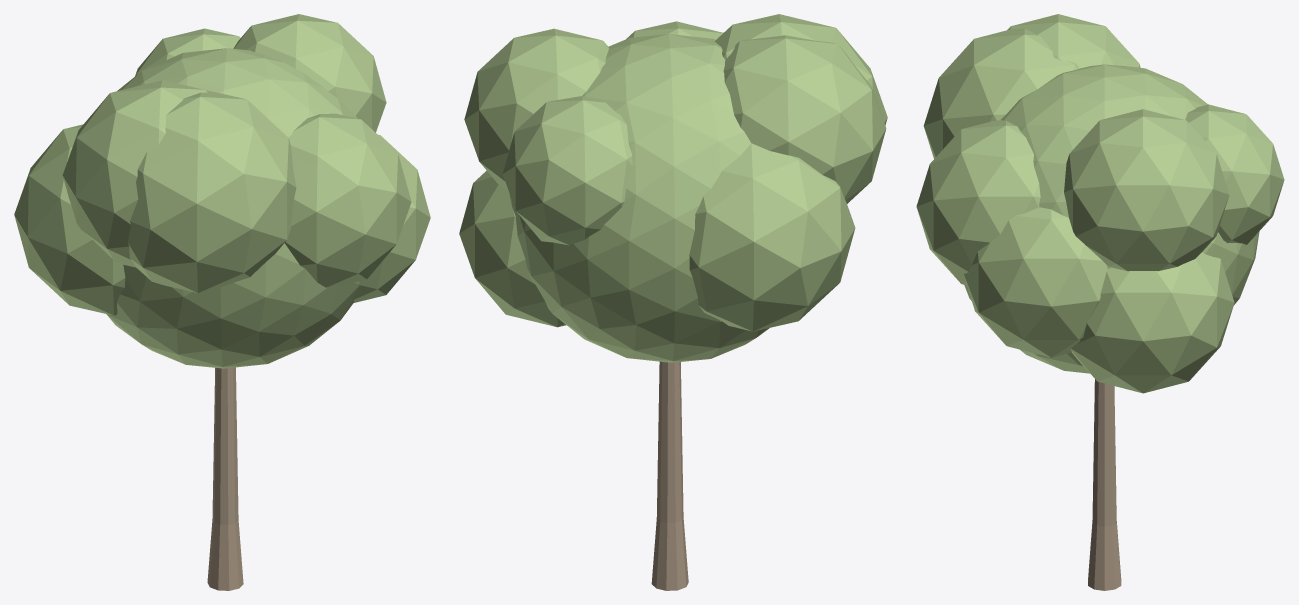
File: tree_b.glb
3 views of the same model, side by side, from view 1: azimuth 30°, elevation 25°; view 2: azimuth 150°, elevation 25°; view 3: azimuth 270°, elevation 25° (orthographic). The views are drawn at different scales.
Visible parts, largest first — view 1: tree_b_leaf2, tree_b_bark; view 2: tree_b_leaf2, tree_b_bark; view 3: tree_b_leaf2, tree_b_bark.
Boxes of the visible parts, left/top/right/bottom form: tree_b_leaf2: left=14, top=14, right=430, bottom=368; tree_b_bark: left=207, top=367, right=243, bottom=590; tree_b_leaf2: left=459, top=14, right=887, bottom=362; tree_b_bark: left=651, top=361, right=688, bottom=590; tree_b_leaf2: left=916, top=14, right=1284, bottom=393; tree_b_bark: left=1088, top=379, right=1121, bottom=590.
Bounding box in the file's own units: 4.07 × 5.85 × 3.76.
